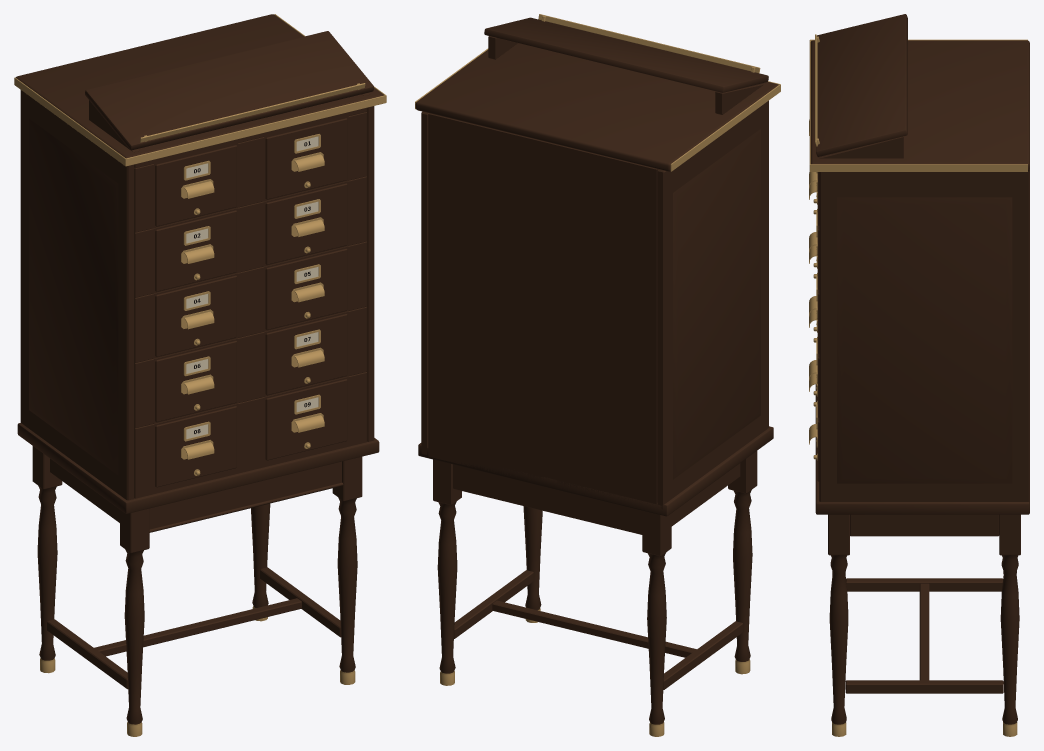
File: card_catalogue.glb
3 renders of one model, left to right at view 1: azimuth 30°, elevation 25°; view 2: azimuth 150°, elevation 25°; view 3: azimuth 270°, elevation 25°, orthographic.
Parts seen in each view (by area): view 1: carcass, stand, carcass_row_4, carcass_row_1, carcass_row_2, carcass_row_3, carcass_row_0, IA_cat_drawer_1, IA_cat_drawer_3, IA_cat_drawer_9, IA_cat_drawer_5, IA_cat_drawer_7 (+5 smaller); view 2: carcass, stand; view 3: carcass, stand.
Part boxes in pixels (x1=…): carcass: x1=14, y1=14, x2=386, y2=513; stand: x1=32, y1=446, x2=362, y2=736; carcass_row_4: x1=134, y1=372, x2=366, y2=498; carcass_row_1: x1=134, y1=176, x2=366, y2=297; carcass_row_2: x1=134, y1=241, x2=366, y2=362; carcass_row_3: x1=134, y1=306, x2=366, y2=428; carcass_row_0: x1=134, y1=112, x2=366, y2=232; IA_cat_drawer_1: x1=265, y1=118, x2=347, y2=199; IA_cat_drawer_3: x1=265, y1=183, x2=347, y2=264; IA_cat_drawer_9: x1=265, y1=379, x2=347, y2=460; IA_cat_drawer_5: x1=265, y1=248, x2=347, y2=329; IA_cat_drawer_7: x1=265, y1=314, x2=347, y2=395; carcass: x1=415, y1=14, x2=780, y2=516; stand: x1=433, y1=451, x2=757, y2=736; carcass: x1=809, y1=14, x2=1029, y2=514; stand: x1=828, y1=514, x2=1020, y2=736.
Bounding box in the file's own units: 0.6744 × 1.54 × 0.5033.
